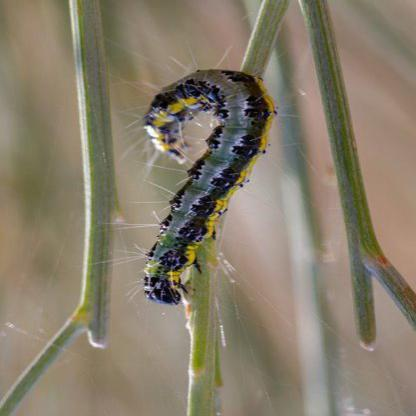pieris: (135, 66, 276, 306)
